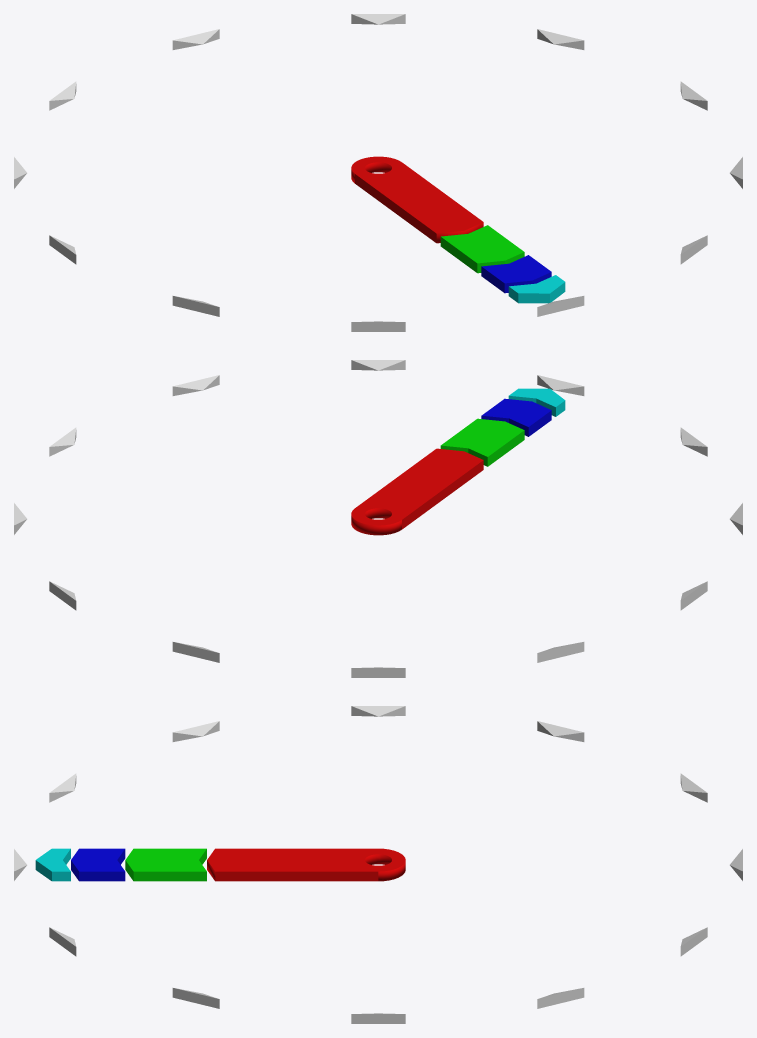
The model's file is LightClock.fbx.
The picture shows the model from 3 angles, top to bottom: view 1: azimuth 30°, elevation 25°; view 2: azimuth 150°, elevation 25°; view 3: azimuth 270°, elevation 25°; orthographic projection.
Parts seen in each view (by area): view 1: LightClock; view 2: LightClock; view 3: LightClock.
Boxes of the visible parts, x1,y1,x2,y2 form: LightClock: (14, 14, 742, 331); LightClock: (14, 360, 742, 677); LightClock: (14, 706, 742, 1023).
Bounding box in the file's own units: 268 × 4 × 268.
